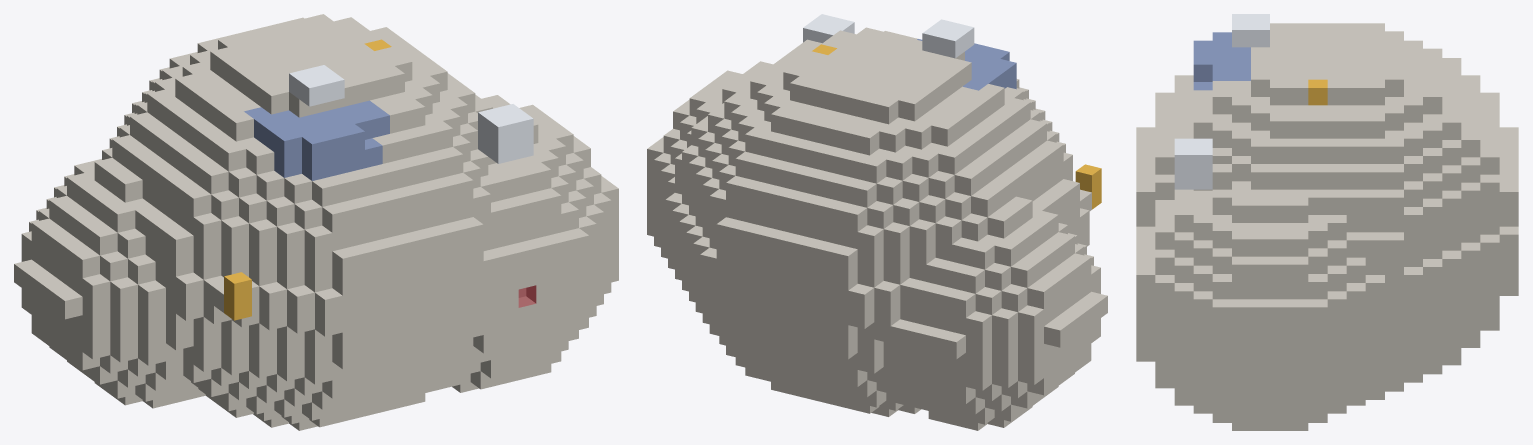
The model's file is bulette_pearl.glb.
3 views of the same model, side by side, from view 1: azimuth 30°, elevation 25°; view 2: azimuth 150°, elevation 25°; view 3: azimuth 270°, elevation 25° (orthographic). The views are drawn at different scales.
Visible parts, largest first — view 1: bulette_pearl:compound; view 2: bulette_pearl:compound; view 3: bulette_pearl:compound.
Part boxes in pixels (bbox=[...]): bulette_pearl:compound: bbox=[14, 14, 618, 430]; bulette_pearl:compound: bbox=[647, 14, 1107, 430]; bulette_pearl:compound: bbox=[1136, 14, 1518, 430].
Bounding box in the file's own units: 0.056 × 0.038 × 0.04.
